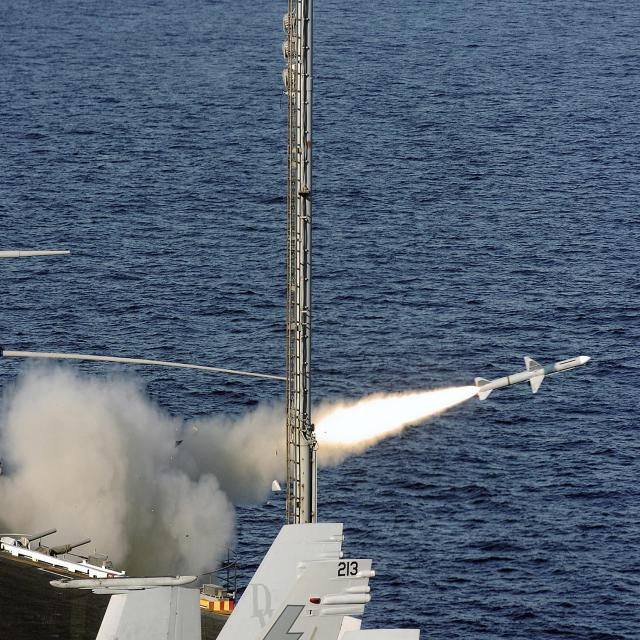rocket: (350, 350, 590, 462)
